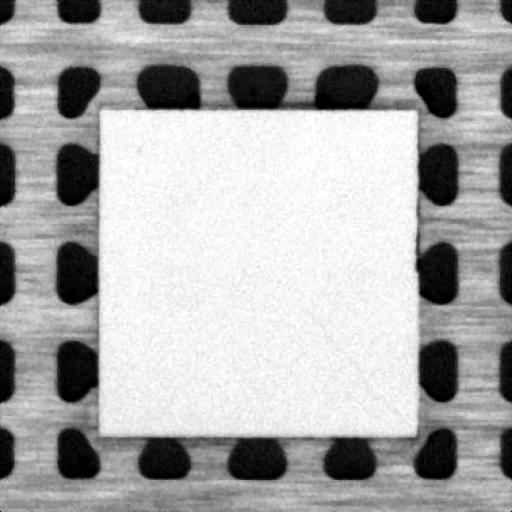DIE_INK: (131, 140, 145, 156)
